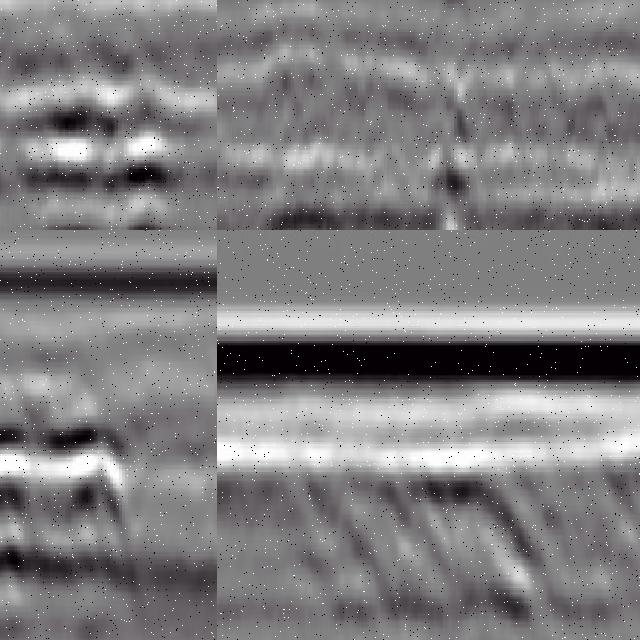crack: (439, 1, 475, 231)
loose: (283, 445, 640, 619), (1, 381, 136, 617), (1, 80, 210, 231)
